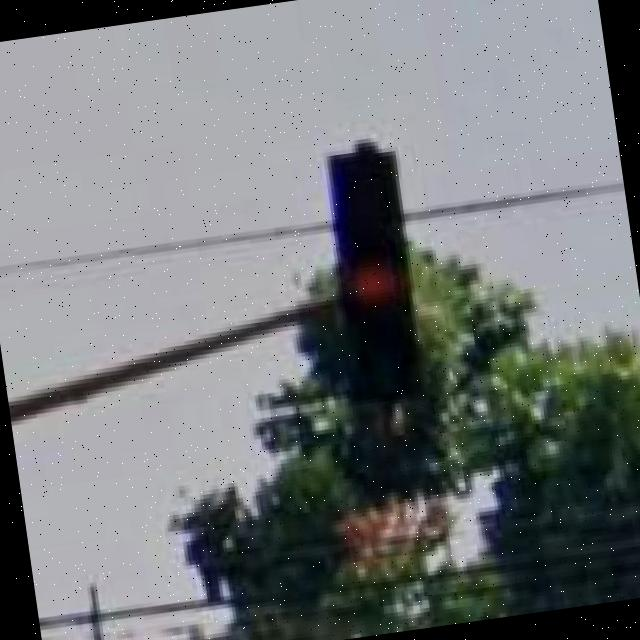Zolte swiatlo: (317, 146, 433, 406)
